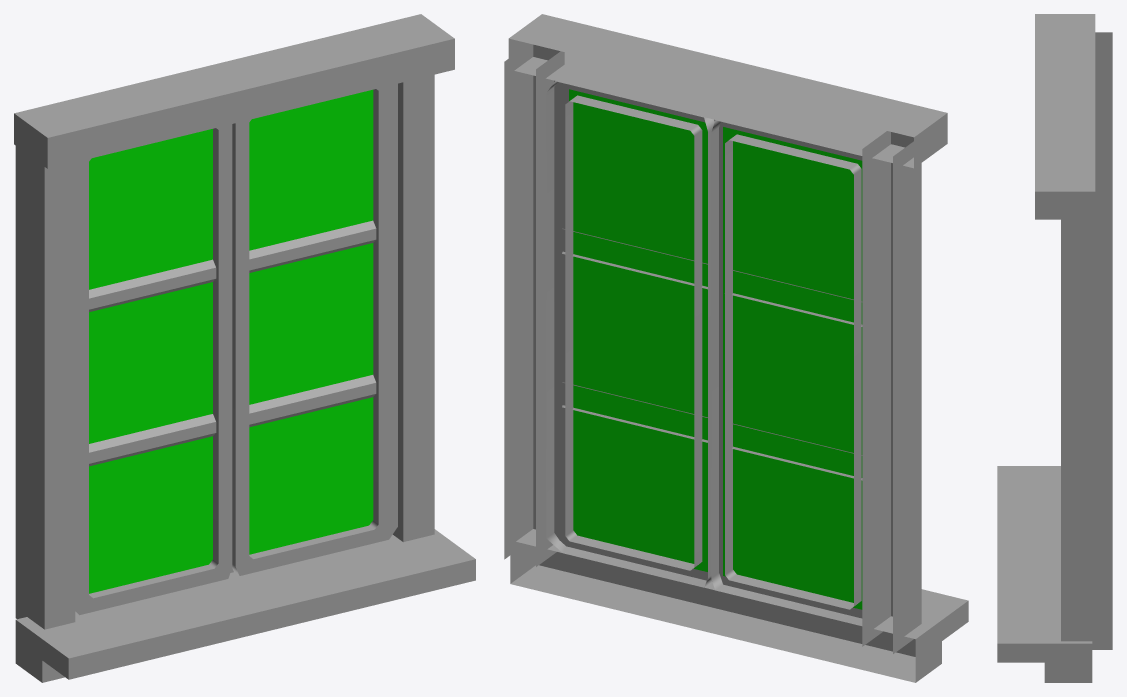
The model's file is SM_Fenetre_1.fbx.
The picture shows the model from 3 angles, left to right: view 1: azimuth 30°, elevation 25°; view 2: azimuth 150°, elevation 25°; view 3: azimuth 270°, elevation 25°; orthographic projection. The views are drawn at different scales.
Visible parts, largest first — view 1: polySurface36, polySurface37, polySurface39, polySurface40, pCube72, pCube73, polySurface38, pCube76, pCube77, pCube75, pCube78; view 2: polySurface36, polySurface37, polySurface39, polySurface38, polySurface40, pCube72, pCube73; view 3: polySurface38, polySurface40, polySurface39, polySurface37.
Boxes of the visible parts, x1,y1,x2,y2 form: polySurface36: (89,89,373,593); polySurface37: (15,146,75,629); polySurface39: (14,14,454,168); polySurface40: (15,529,475,682); pCube72: (232,83,397,575); pCube73: (75,124,232,615); polySurface38: (393,74,434,541); pCube76: (249,375,376,427); pCube77: (89,259,216,311); pCube75: (249,220,376,272); pCube78: (89,414,216,466); polySurface36: (554,80,862,618); polySurface37: (862,131,921,653); polySurface39: (508,14,947,168); polySurface38: (504,43,564,566); polySurface40: (510,529,968,682); pCube72: (546,81,714,587); pCube73: (711,120,862,625); polySurface38: (1061,188,1112,649); polySurface40: (997,466,1092,682); polySurface39: (1035,14,1095,219); polySurface37: (1095,32,1112,188).
Bounding box in the file's own units: 296 × 382 × 81.37.
